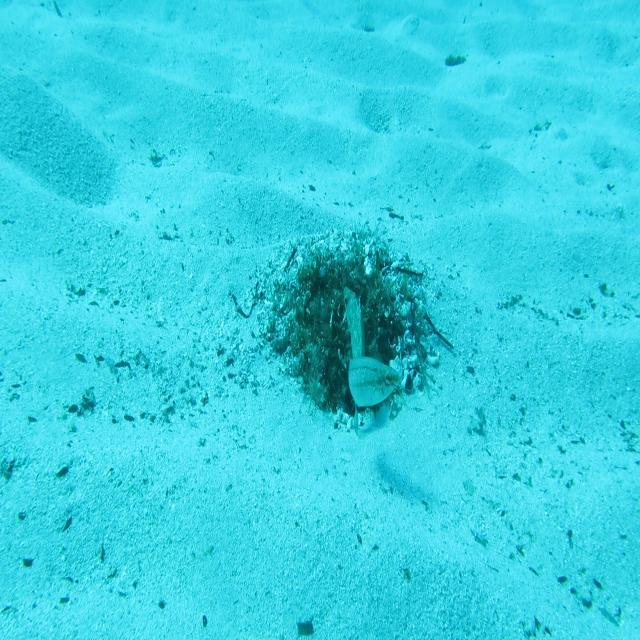FAN: (341, 284, 368, 441)
core_nest: (319, 269, 362, 303)
female: (347, 355, 404, 413)
nest: (252, 210, 450, 441)
vegetation: (443, 50, 468, 71)
